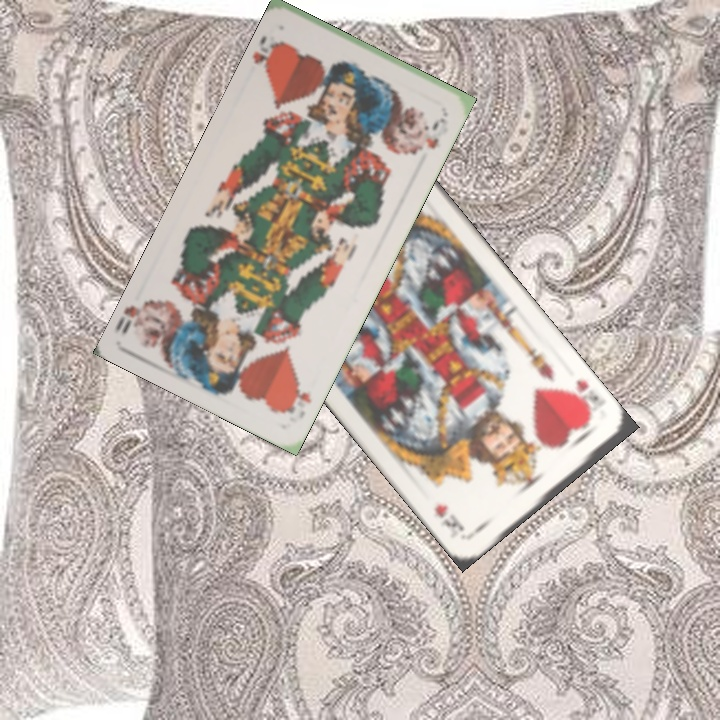HK: (563, 376, 602, 421)
HO: (249, 32, 287, 80), (279, 377, 314, 417)
